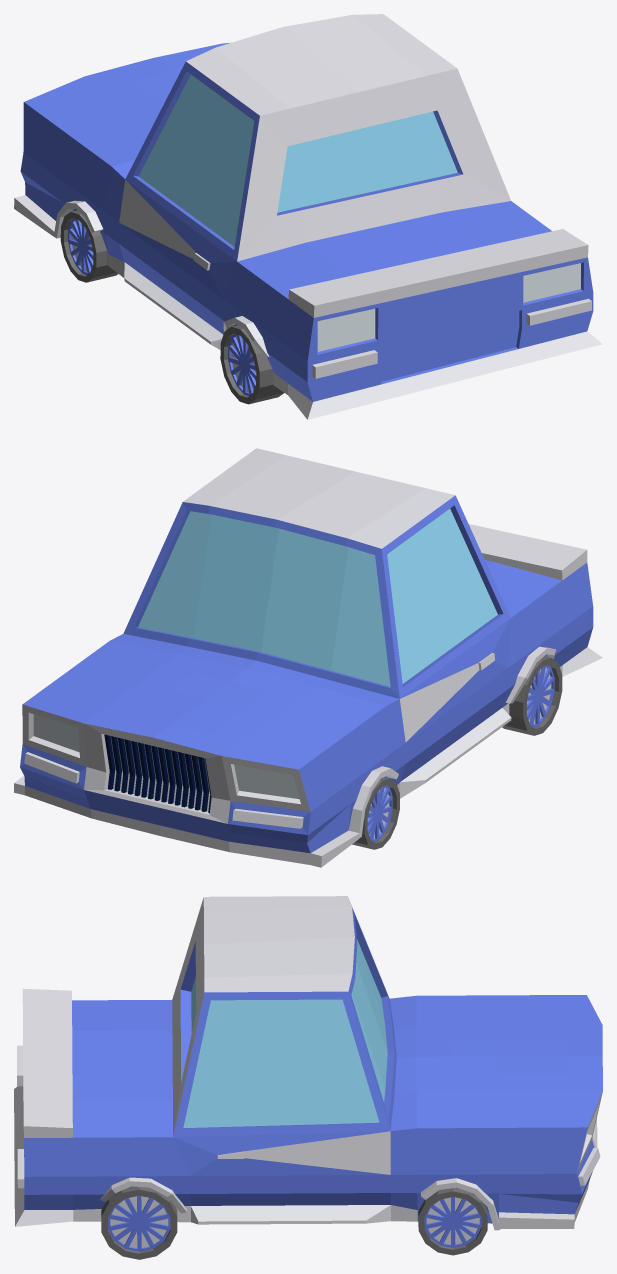
File: Carro_02.fbx
3 renders of one model, top to bottom at view 1: azimuth 30°, elevation 25°; view 2: azimuth 150°, elevation 25°; view 3: azimuth 270°, elevation 25°, orthographic. The views are drawn at different scales.
Visible parts, largest first — view 1: body, backlight, wheel.1, wheel1.1, front_fender, rear_fender; view 2: body, lattice.1, wheel.1, headlight, wheel1.1, front_fender, rear_fender; view 3: body, wheel.1, wheel1.1, front_fender, rear_fender.
Part boxes in pixels (left/top/right/bottom): body: left=14, top=14, right=602, bottom=419; backlight: left=317, top=263, right=580, bottom=351; wheel.1: left=220, top=325, right=283, bottom=404; wheel1.1: left=60, top=210, right=117, bottom=282; front_fender: left=54, top=200, right=102, bottom=238; rear_fender: left=223, top=316, right=269, bottom=356; body: left=14, top=448, right=602, bottom=867; lattice.1: left=104, top=734, right=211, bottom=813; wheel.1: left=502, top=656, right=562, bottom=735; headlight: left=33, top=714, right=299, bottom=798; wheel1.1: left=352, top=777, right=399, bottom=849; front_fender: left=348, top=766, right=398, bottom=837; rear_fender: left=506, top=646, right=556, bottom=703; body: left=14, top=896, right=602, bottom=1228; wheel.1: left=101, top=1186, right=177, bottom=1259; wheel1.1: left=418, top=1188, right=487, bottom=1255; front_fender: left=421, top=1178, right=500, bottom=1230; rear_fender: left=100, top=1177, right=186, bottom=1213.
Size of the model in its own units: 228 by 184 by 389.
